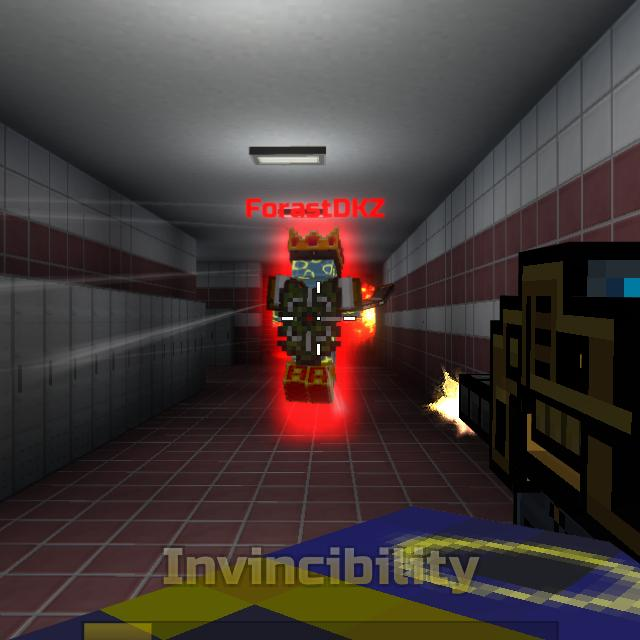Enemy: (269, 227, 365, 406)
